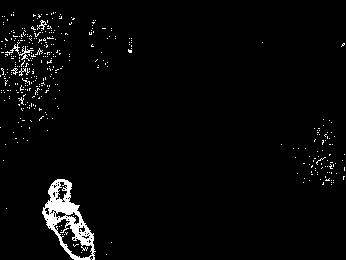person: (38, 179, 107, 260)
